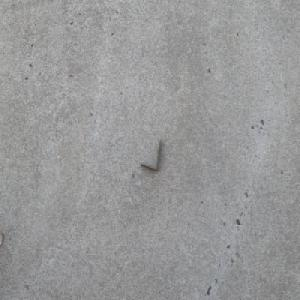MetalPart: (140, 137, 162, 172)
